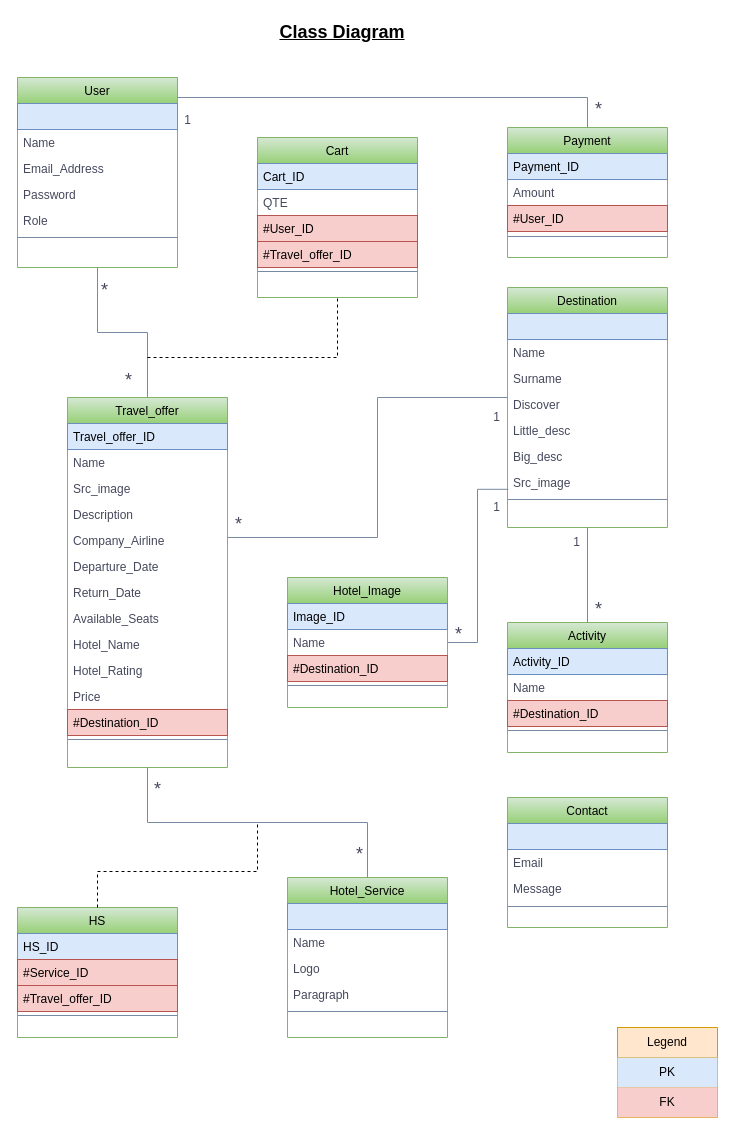
Some shapes in this 735 by 1135 pixel diagram are drawn without their labels. The centre of each missing label's shape, as x and y in pixels:
Contact_ID: point (587, 836)
Destination_ID: point (587, 326)
Service_ID: point (367, 916)
User_ID: point (97, 116)
